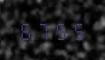five: (52, 20, 68, 40), (69, 20, 85, 40)
seven: (35, 20, 51, 40)
six: (18, 20, 34, 40)
